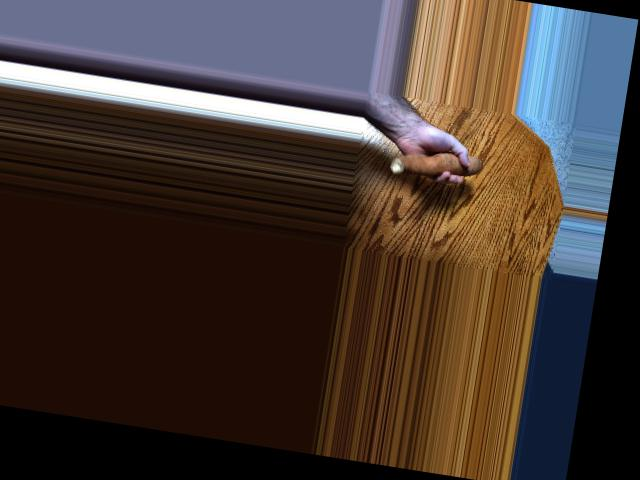sweet_potato: (387, 138, 491, 185)
